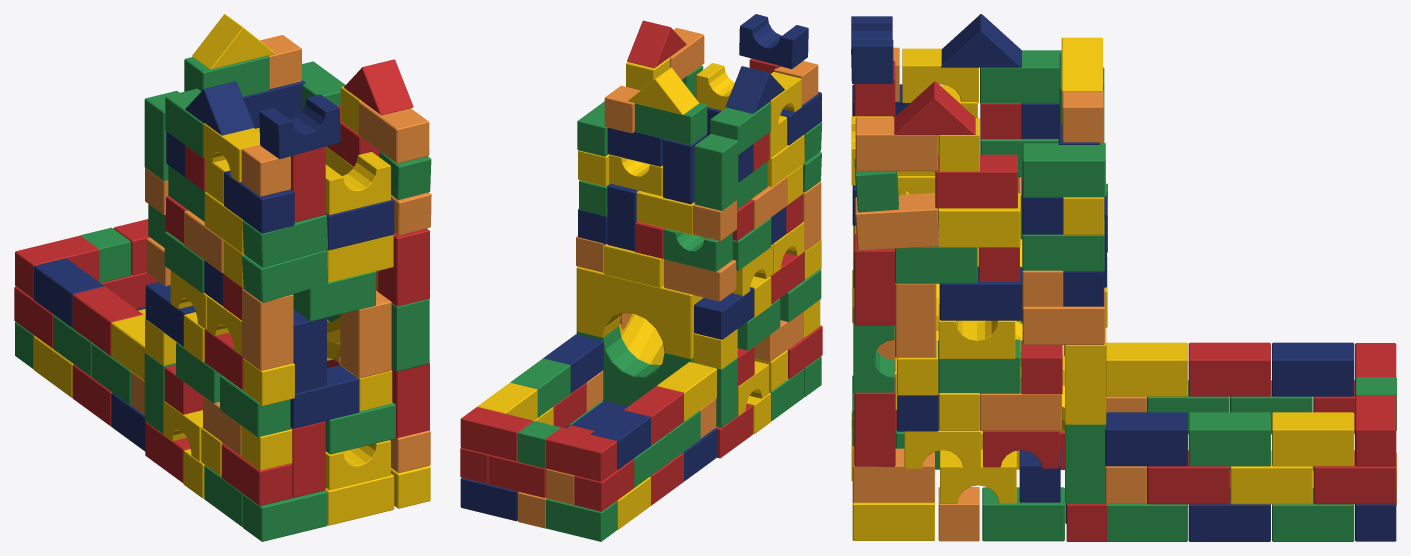
File: diceTower.fbx
The picture shows the model from 3 angles, left to right: view 1: azimuth 30°, elevation 25°; view 2: azimuth 150°, elevation 25°; view 3: azimuth 270°, elevation 25°; orthographic projection. The views are drawn at different scales.
Parts seen in each view (by area): view 1: diceTower.551; view 2: diceTower.551, diceTower.001; view 3: diceTower.551.
Part boxes in pixels (x1,y1,x2,y2): diceTower.551: (14, 14, 431, 541); diceTower.551: (460, 14, 822, 541); diceTower.001: (566, 401, 627, 434); diceTower.551: (851, 14, 1396, 541).
Bounding box in the file's own units: 1050 × 2440 × 2645.
Materials: 1 (1 with a texture image).
